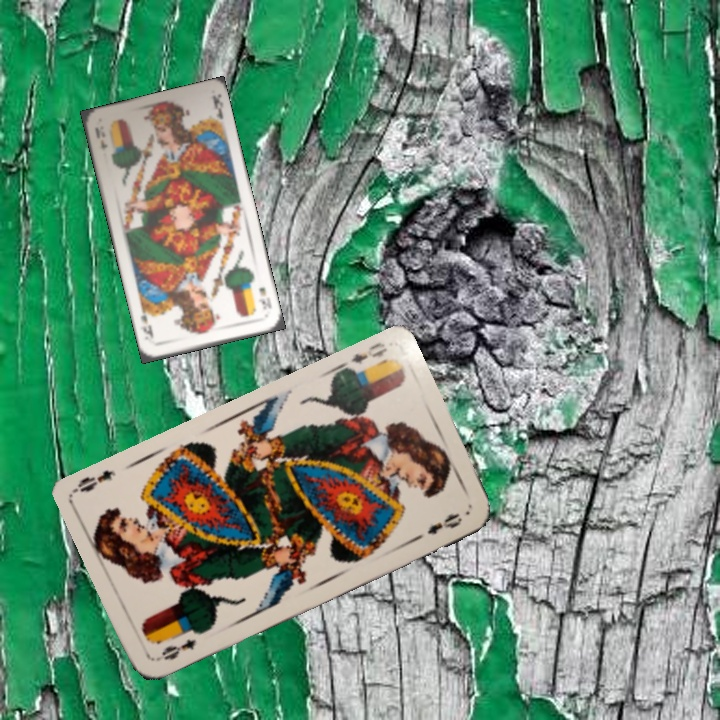EK: (255, 283, 274, 312), (91, 123, 110, 151)
EO: (336, 338, 390, 377), (152, 635, 199, 664)
